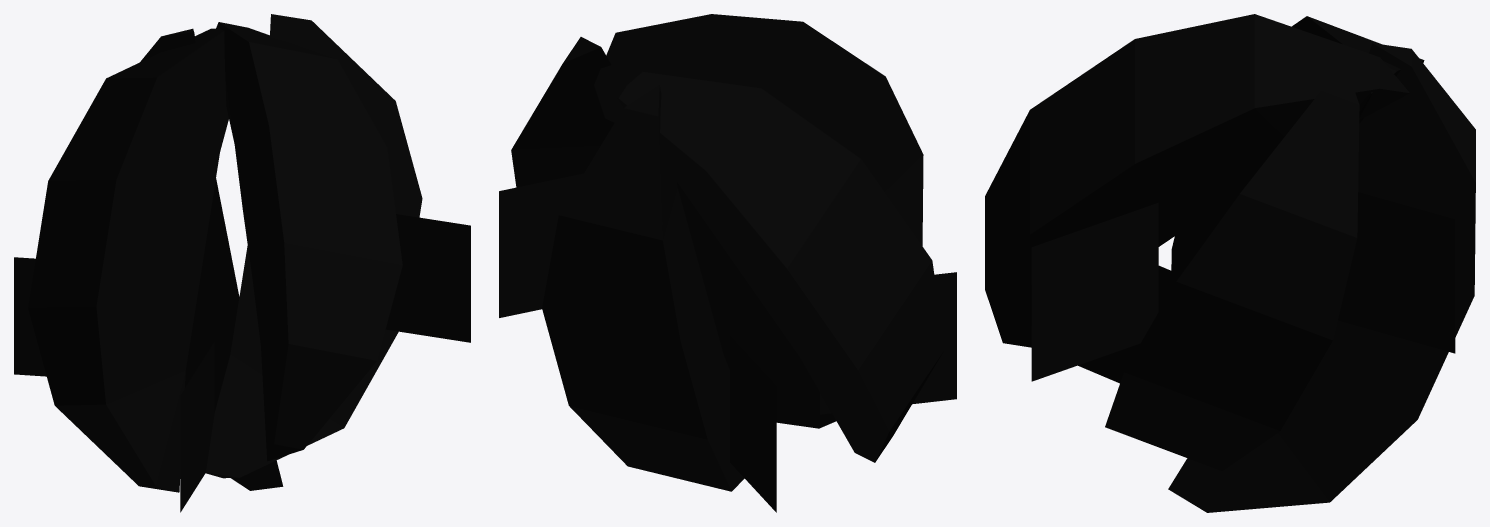
File: impact_05.glb
3 views of the same model, side by side, from view 1: azimuth 30°, elevation 25°; view 2: azimuth 150°, elevation 25°; view 3: azimuth 270°, elevation 25° (orthographic). The views are drawn at different scales.
Bounding box in the file's own units: 1.21 × 1.55 × 1.4.
Materials: 1 (1 with a texture image).
